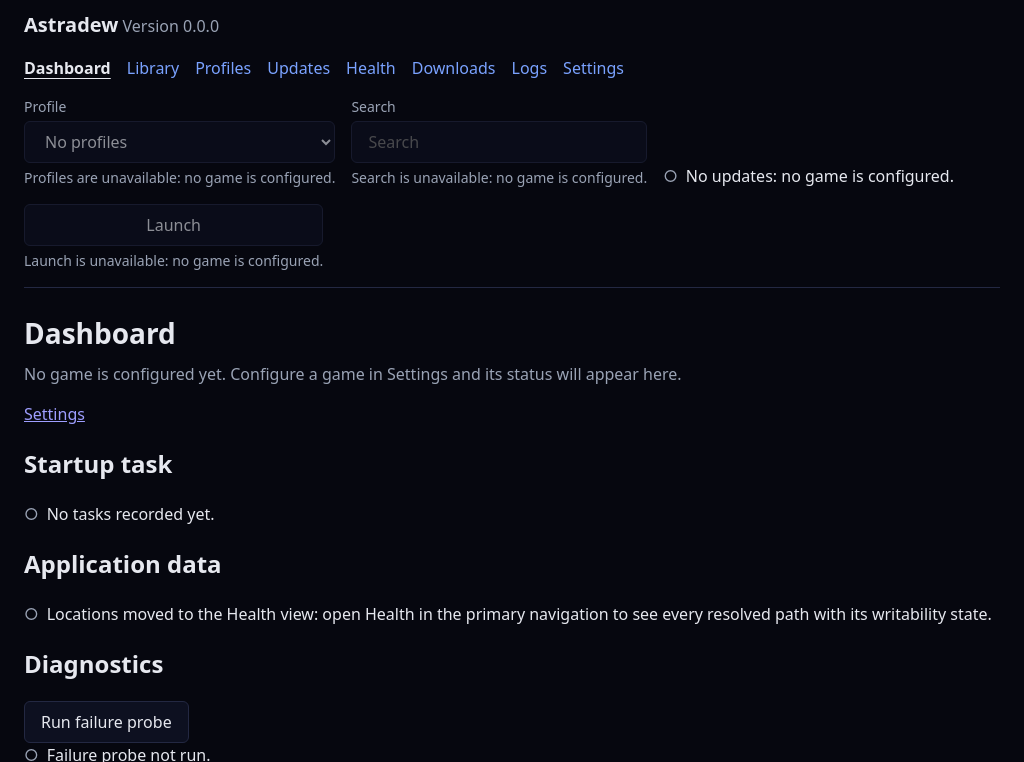
Test: failure probe › probe resolution shows unexpected-succeeded
The image size is (1024, 762).
Check: the text "Astradew" is shown, box [24,11,118,38]
Click the button "Run failure probe".
click(106, 722)  # box [24,701,189,743]
(page scrolled)
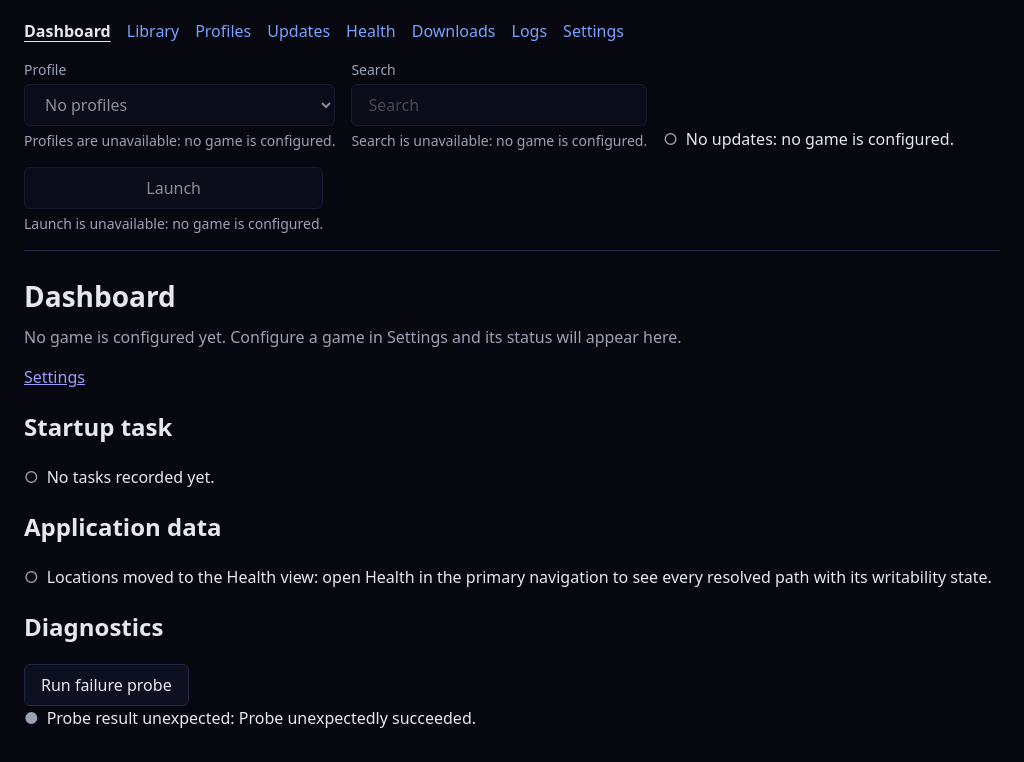
Check: the text "Probe result unexpected: Probe unexpectedly succeeded." is shown, box [47,706,476,730]
